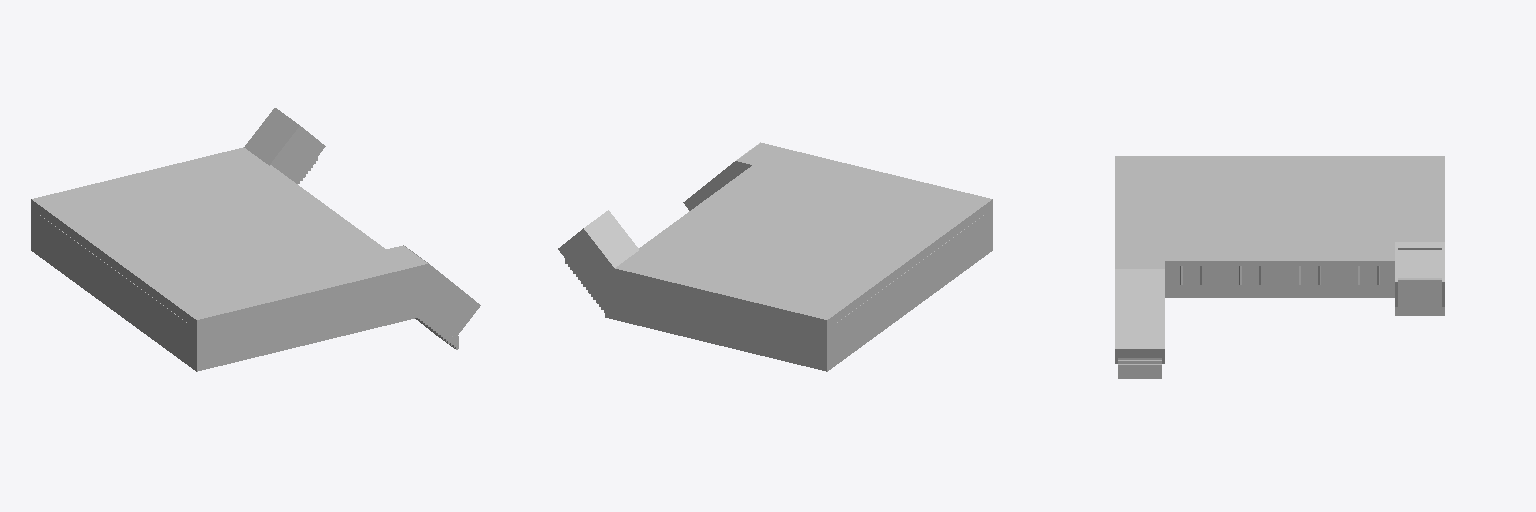
The model's file is 1ST LEVEL, MAIN.obj.
3 renders of one model, left to right at view 1: azimuth 30°, elevation 25°; view 2: azimuth 150°, elevation 25°; view 3: azimuth 270°, elevation 25°, orthographic.
Visible parts, largest first — view 1: Ceiling1, WallsLeftSide1, Floor1, Imagepart1, WallsFrontWindows1, WallsBackElevators1; view 2: Ceiling1, WallsRightSide1, Floor1, Imagepart1, WallsFrontWindows1; view 3: Ceiling1, WallsBackElevators1, Floor1, Stairs1, BackgroundUpperFloors1, Stairs2.
Part boxes in pixels (x1,y1,x2,y2): Ceiling1: (31, 108, 480, 325); WallsLeftSide1: (195, 270, 476, 357); Floor1: (31, 238, 418, 371); Imagepart1: (40, 215, 186, 346); WallsFrontWindows1: (33, 206, 194, 356); WallsBackElevators1: (274, 129, 325, 183); Ceiling1: (580, 142, 992, 325); WallsRightSide1: (558, 232, 828, 357); Floor1: (605, 238, 992, 371); Imagepart1: (837, 215, 983, 346); WallsFrontWindows1: (829, 206, 990, 356); Ceiling1: (1115, 156, 1444, 350); WallsBackElevators1: (1162, 248, 1397, 363); Floor1: (1165, 285, 1444, 315); Stairs1: (1398, 278, 1441, 313); BackgroundUpperFloors1: (1398, 250, 1441, 277); Stairs2: (1118, 358, 1161, 378).
Bounding box in the file's own units: 111 × 47.39 × 112.